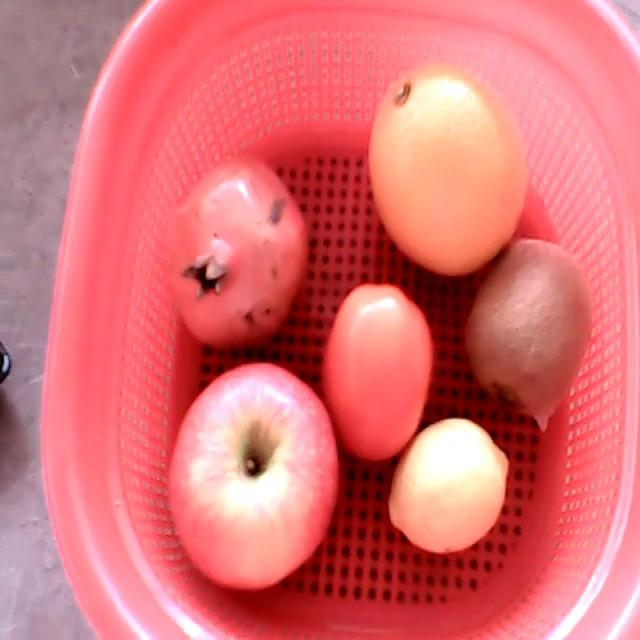apple: (168, 362, 339, 590)
kiwi: (464, 238, 592, 417)
lemon: (389, 417, 509, 553)
orange: (367, 61, 529, 276)
pomegranate: (163, 156, 308, 349)
tomato: (320, 285, 433, 461)
